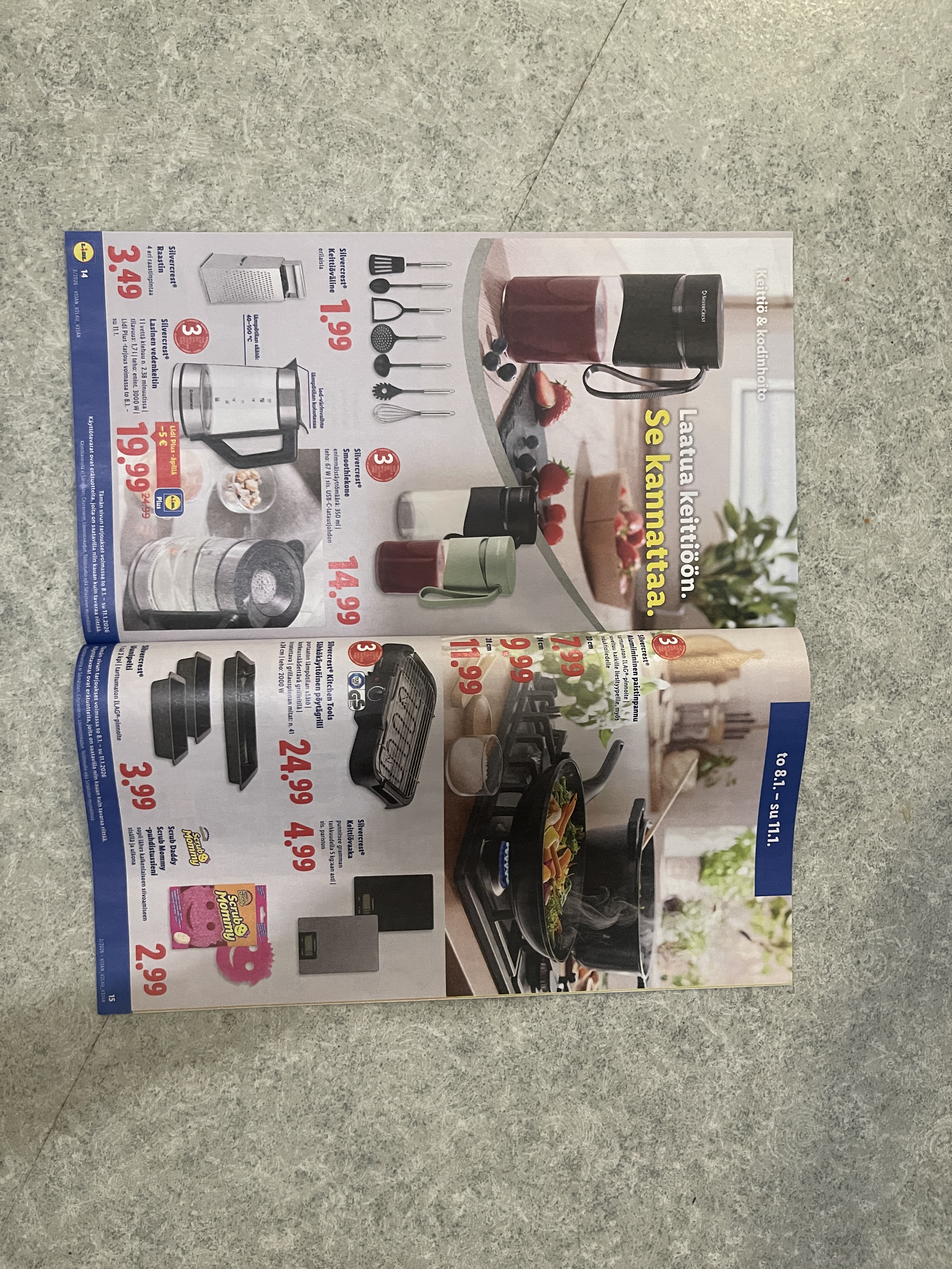paper: (59, 226, 814, 1020)
